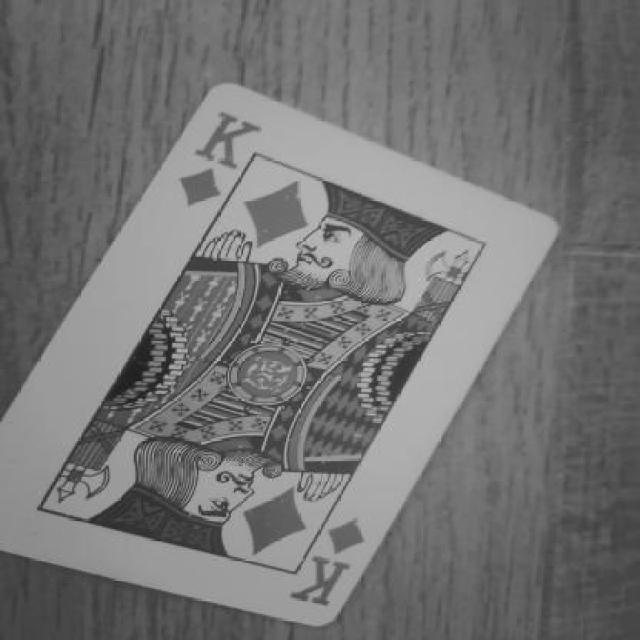KD: (167, 104, 281, 216), (278, 508, 396, 612)
